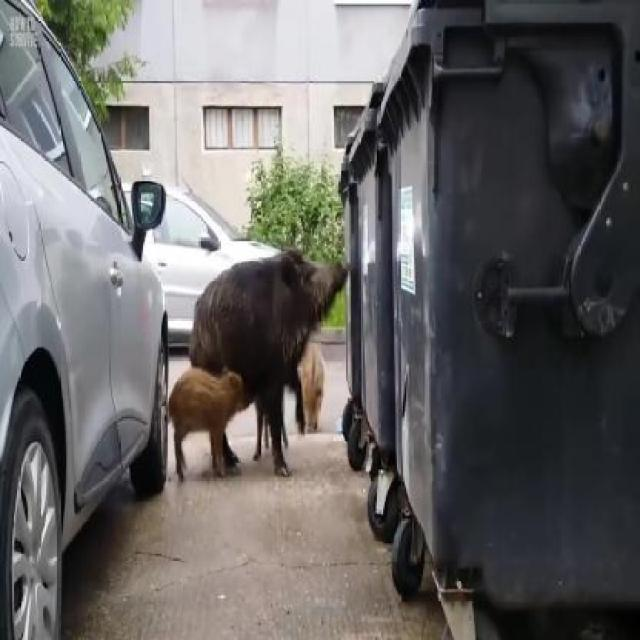Boar: (190, 208, 344, 455), (162, 338, 249, 482), (292, 331, 336, 437)
